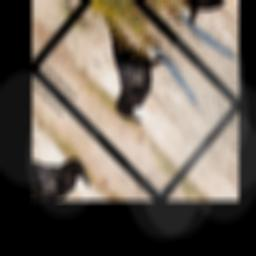Crow: (62, 0, 186, 132)
